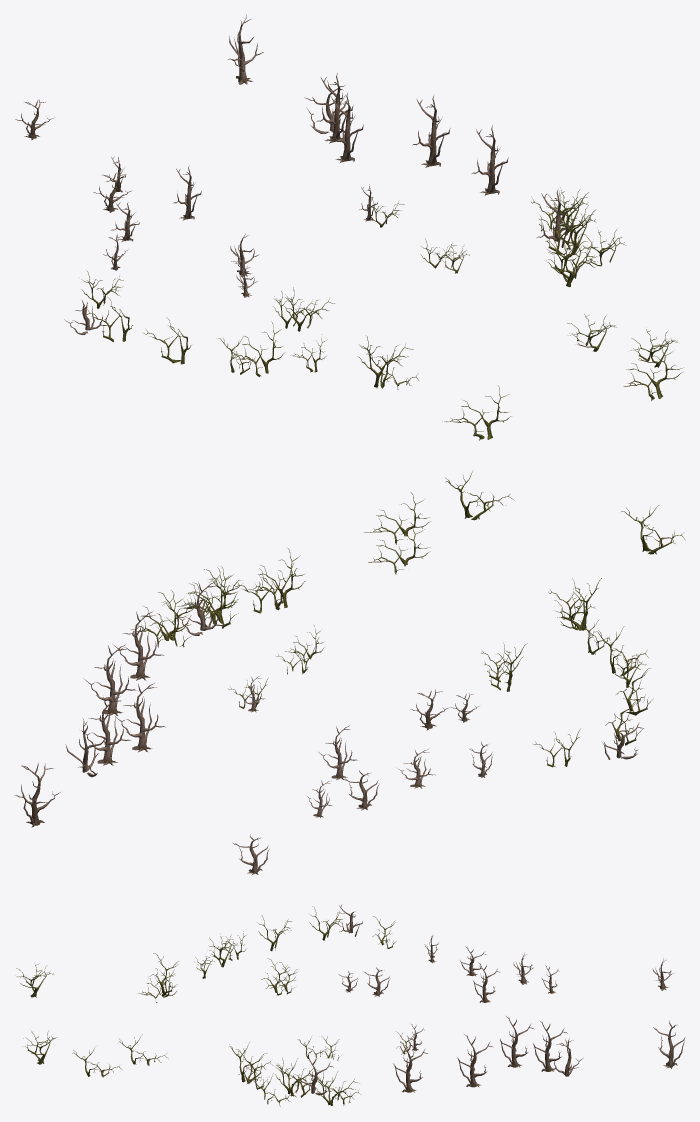
File: combat_01_tree.FBX
The picture shows the model from 3 angles, top to bottom: view 1: azimuth 30°, elevation 25°; view 2: azimuth 150°, elevation 25°; view 3: azimuth 270°, elevation 25°; orthographic projection. The views are drawn at different scales.
Visible parts, largest first — view 1: tree13, tree31, tree12, tree29, tree30, tree28, tree5; view 2: tree31, tree13, tree12, tree29, tree28, tree14, tree30, tree5, tree26; view 3: tree31, tree13, tree12, tree29, tree5, tree30, tree28, tree14, tree26, tree7, tree008.
Part boxes in pixels (x1,y1,x2,y2): tree13: [539, 204, 625, 266]; tree31: [304, 73, 353, 143]; tree12: [545, 234, 597, 287]; tree29: [412, 94, 450, 167]; tree30: [326, 92, 363, 162]; tree28: [472, 125, 508, 195]; tree5: [358, 335, 418, 389]; tree31: [65, 696, 130, 777]; tree13: [177, 566, 241, 628]; tree12: [233, 548, 305, 613]; tree29: [83, 644, 136, 716]; tree28: [114, 611, 163, 680]; tree14: [130, 590, 196, 647]; tree30: [115, 683, 165, 752]; tree5: [548, 578, 601, 630]; tree26: [14, 762, 60, 827]; tree31: [533, 1021, 583, 1076]; tree13: [251, 1057, 320, 1106]; tree12: [229, 1042, 272, 1089]; tree29: [457, 1034, 493, 1087]; tree5: [138, 953, 179, 1002]; tree30: [500, 1016, 533, 1067]; tree28: [393, 1041, 427, 1092]; tree14: [315, 1070, 360, 1105]; tree26: [653, 1020, 685, 1068]; tree7: [209, 931, 246, 967]; tree008: [261, 958, 298, 995].
Bounding box in the file's own units: 176 × 25.65 × 269.
